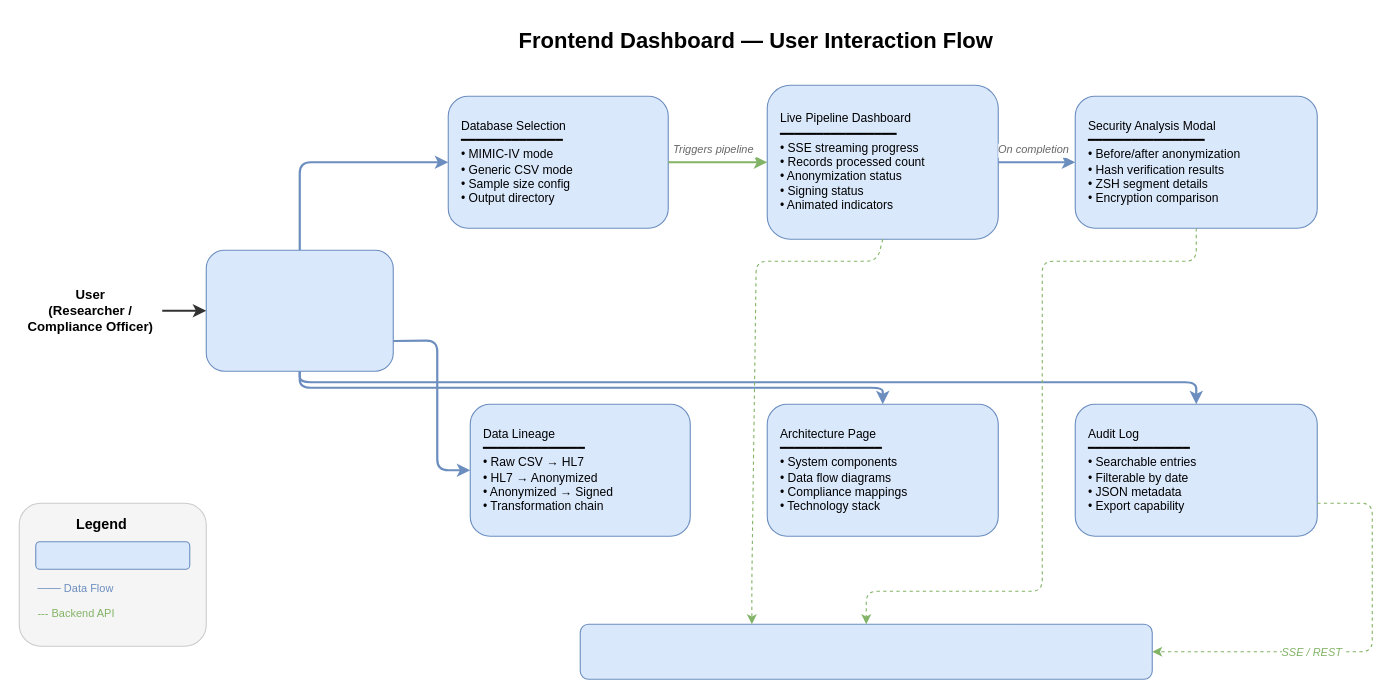
This 1400x699 diagram has some shape labels left out. The box of each missing label's shape, as (x1, y1, x2, y2) in pixels:
FastAPI Backend (app.py) SSE Endpoints | Pipeline Triggers | File Serving: (579, 623, 1152, 679)
Landing Page ━━━━━━━━━━━━ Project overview Architecture info Navigation hub: (205, 249, 393, 371)
Novel Frontend: (35, 541, 190, 569)
